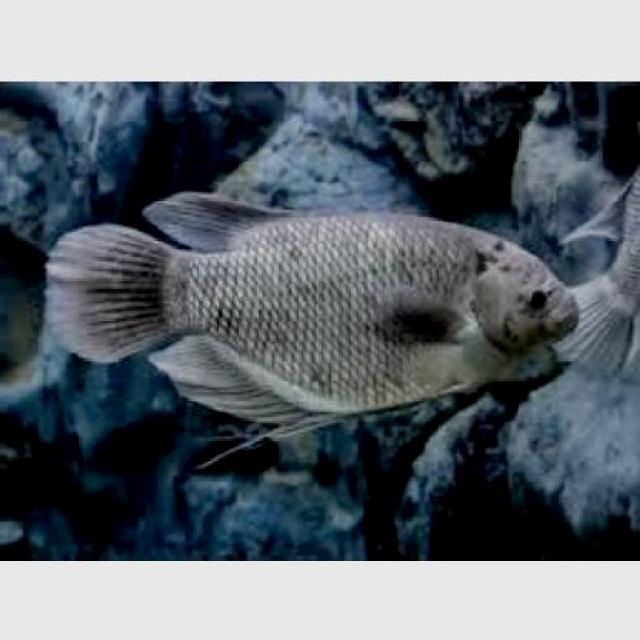gurame: (51, 206, 576, 437)
